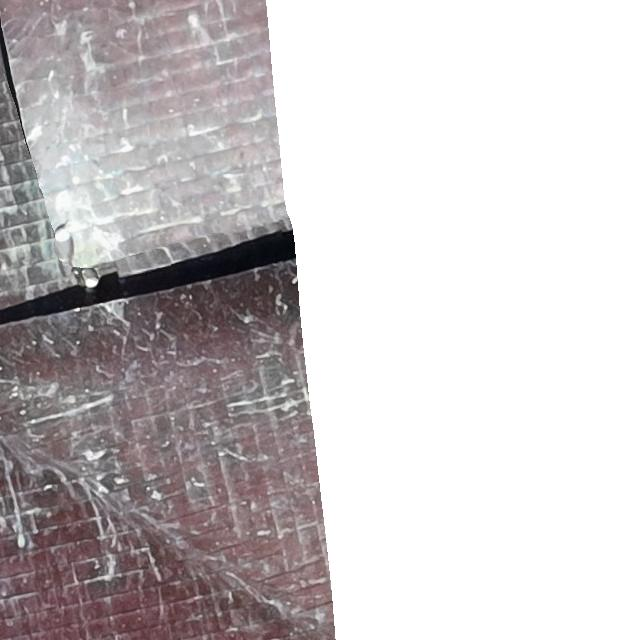umineko: (52, 227, 79, 280)
